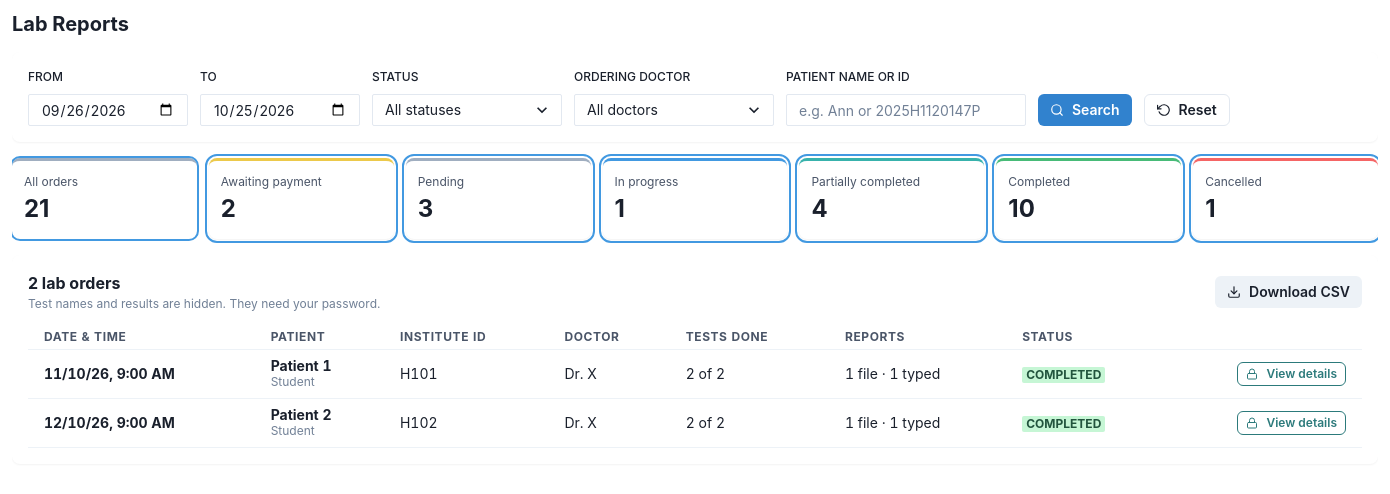
Admin Reports - lab order statuses › refuses {"from":"2026-11-01","to":"2026-10-01"} without asking the server
expect the text "lab orders?" is shown: met, box [28,273,120,293]
In the date field named "From date": (108, 110) [28,94,188,126], type "2026-11-01"
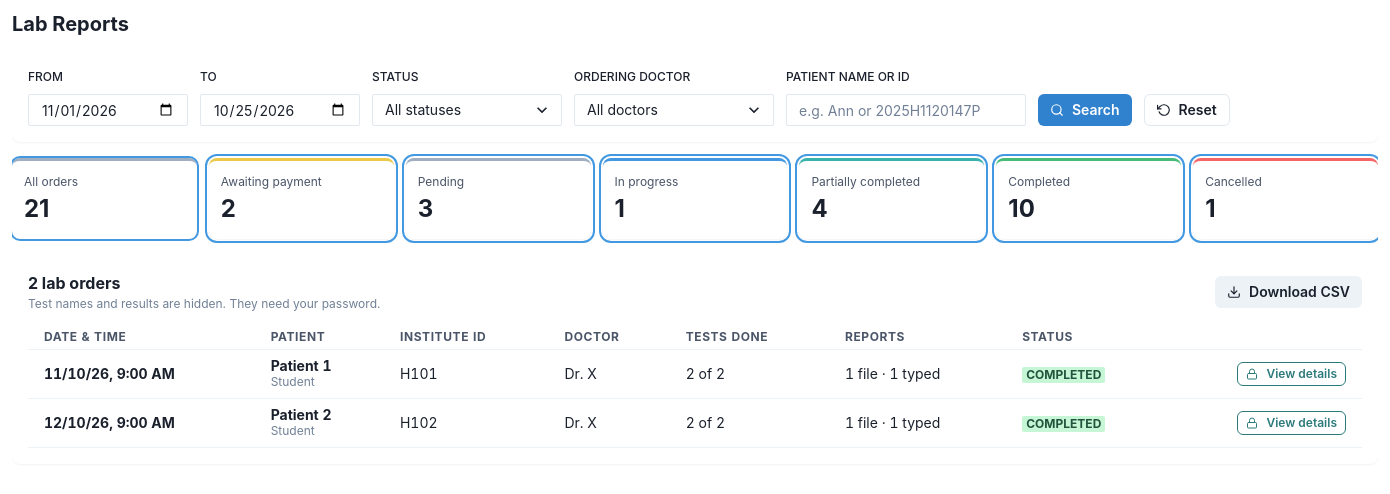
In the date field named "To date": (280, 110) [200,94,360,126], type "2026-10-01"
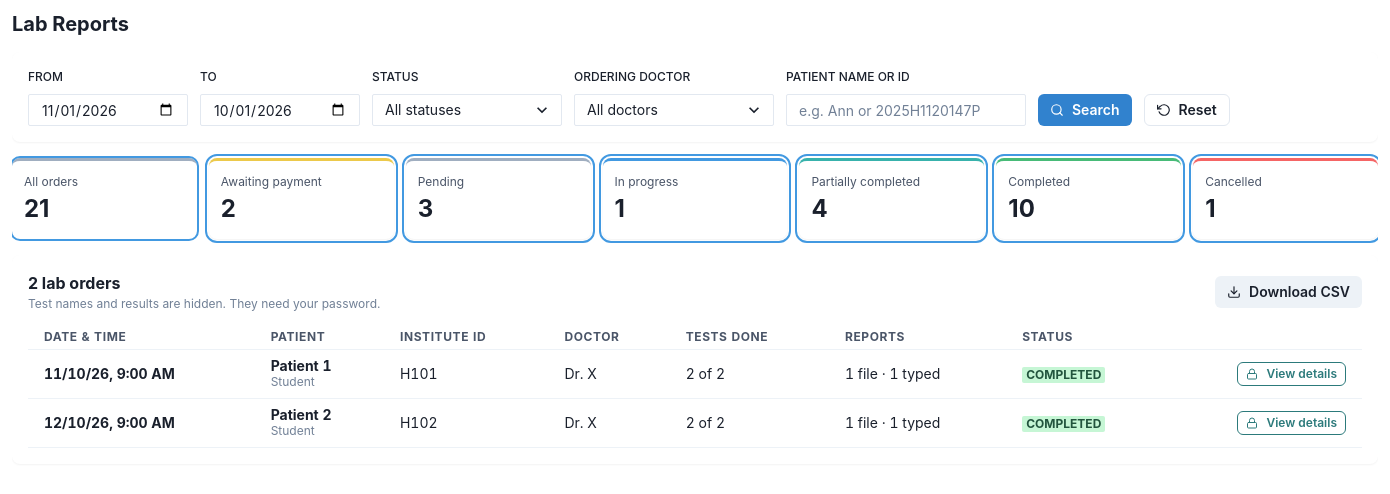
Click the button "Search": (1085, 110) [1038,94,1132,126]
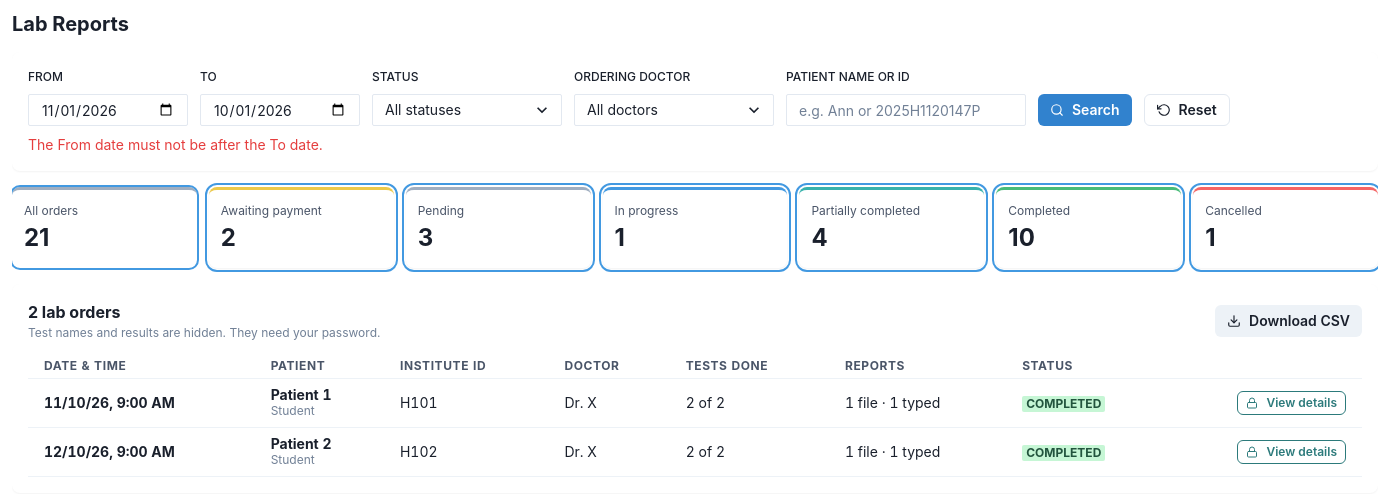
expect the text "The From date must not be after the To date." is shown: met, box [28,136,323,153]
